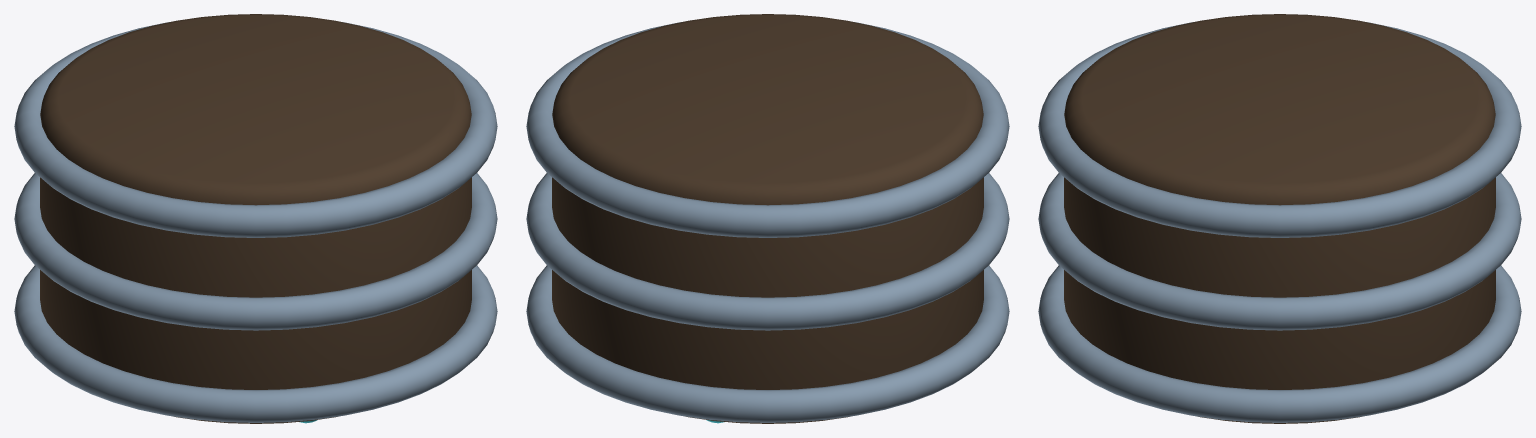
File: bracelet_v5.glb
3 views of the same model, side by side, from view 1: azimuth 30°, elevation 25°; view 2: azimuth 150°, elevation 25°; view 3: azimuth 270°, elevation 25° (orthographic).
Visible parts, largest first — view 1: LEATHER_BRACER_SECONDARY, BRACER_STRAP_PRIMARY.002, BRACER_STRAP_PRIMARY.001, BRACER_STRAP_PRIMARY; view 2: LEATHER_BRACER_SECONDARY, BRACER_STRAP_PRIMARY.002, BRACER_STRAP_PRIMARY.001, BRACER_STRAP_PRIMARY; view 3: LEATHER_BRACER_SECONDARY, BRACER_STRAP_PRIMARY.002, BRACER_STRAP_PRIMARY.001, BRACER_STRAP_PRIMARY.
Boxes of the visible parts, <box> form: LEATHER_BRACER_SECONDARY: <box>40,14,471,423</box>; BRACER_STRAP_PRIMARY.002: <box>14,22,497,237</box>; BRACER_STRAP_PRIMARY.001: <box>14,173,497,330</box>; BRACER_STRAP_PRIMARY: <box>14,265,497,422</box>; LEATHER_BRACER_SECONDARY: <box>552,14,983,423</box>; BRACER_STRAP_PRIMARY.002: <box>526,22,1009,237</box>; BRACER_STRAP_PRIMARY.001: <box>526,173,1009,330</box>; BRACER_STRAP_PRIMARY: <box>526,265,1009,422</box>; LEATHER_BRACER_SECONDARY: <box>1064,14,1495,423</box>; BRACER_STRAP_PRIMARY.002: <box>1038,22,1521,237</box>; BRACER_STRAP_PRIMARY.001: <box>1038,173,1521,330</box>; BRACER_STRAP_PRIMARY: <box>1038,265,1521,422</box>.
Size of the model in its own units: 1.61 by 1.05 by 1.61.
